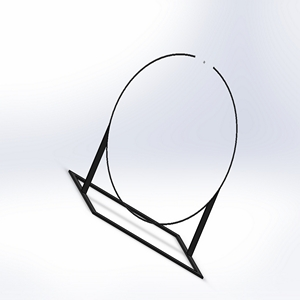circle: (67, 50, 239, 281)
